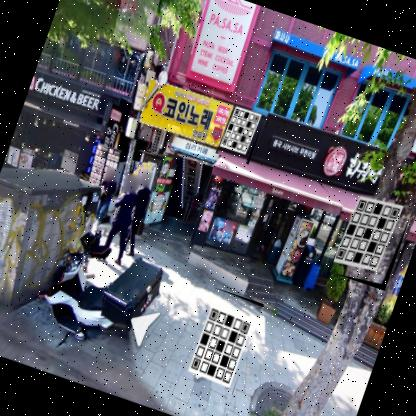qncode: (181, 286, 265, 396), (330, 188, 414, 292), (216, 96, 270, 166)
